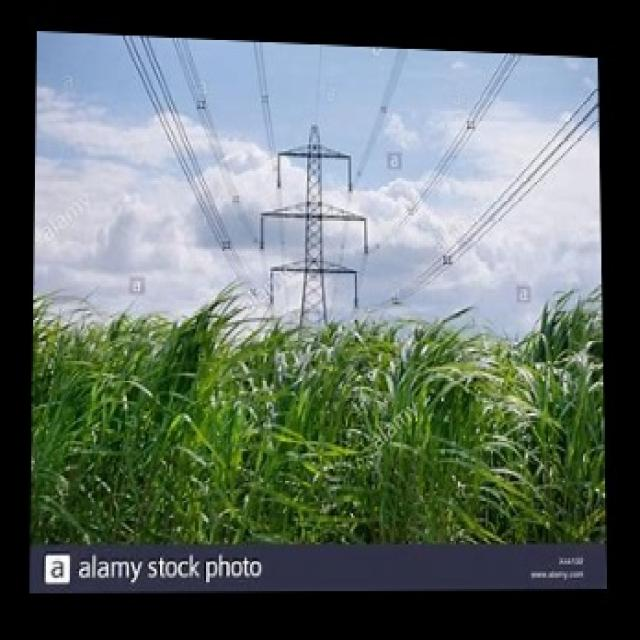utility poles: (260, 110, 374, 542)
